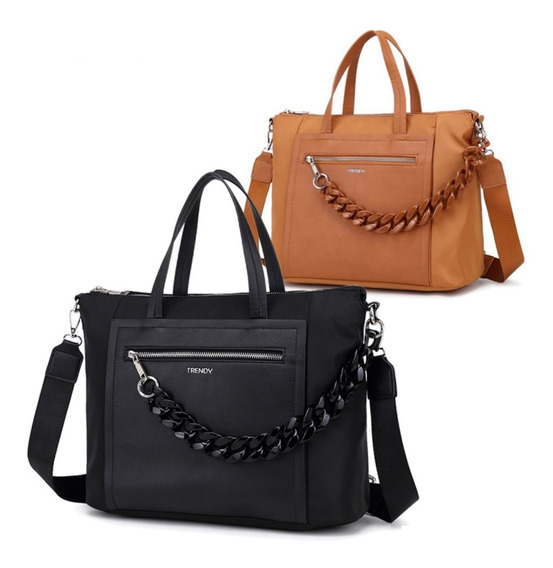cartera: (26, 169, 423, 536), (241, 28, 527, 295)
